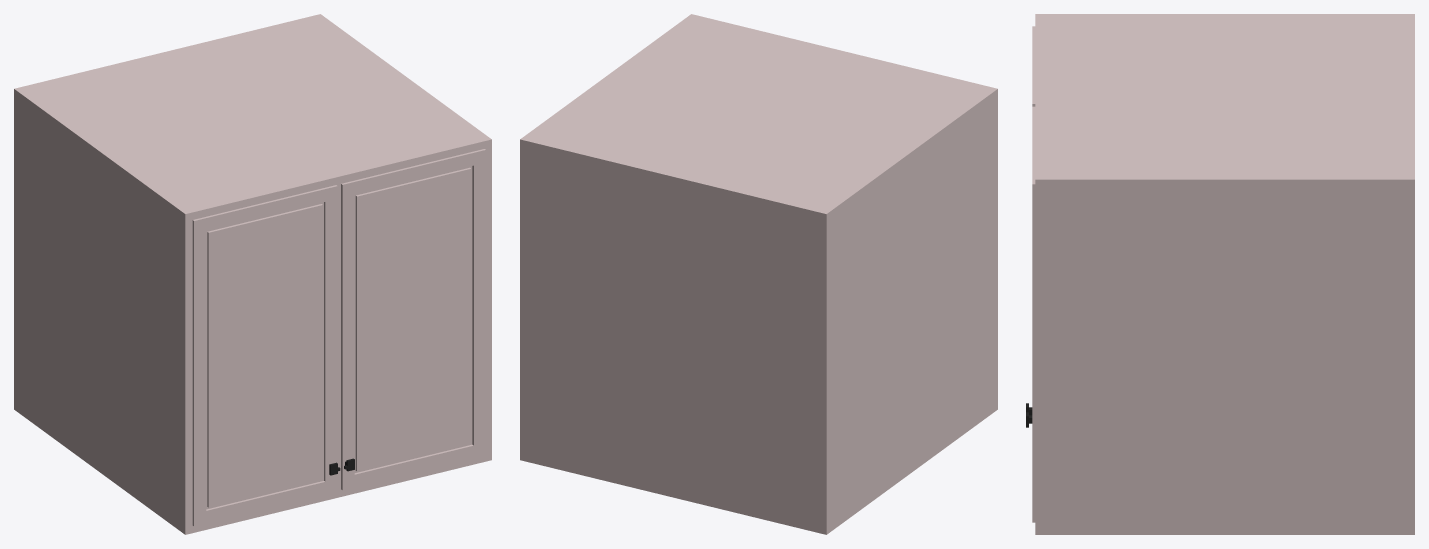
The model's file is cupboard4.obj.
3 renders of one model, left to right at view 1: azimuth 30°, elevation 25°; view 2: azimuth 150°, elevation 25°; view 3: azimuth 270°, elevation 25°, orthographic. The views are drawn at different scales.
Bounding box in the file's own units: 12.6 × 12.6 × 12.5.
Materials: 1 (1 with a texture image).
